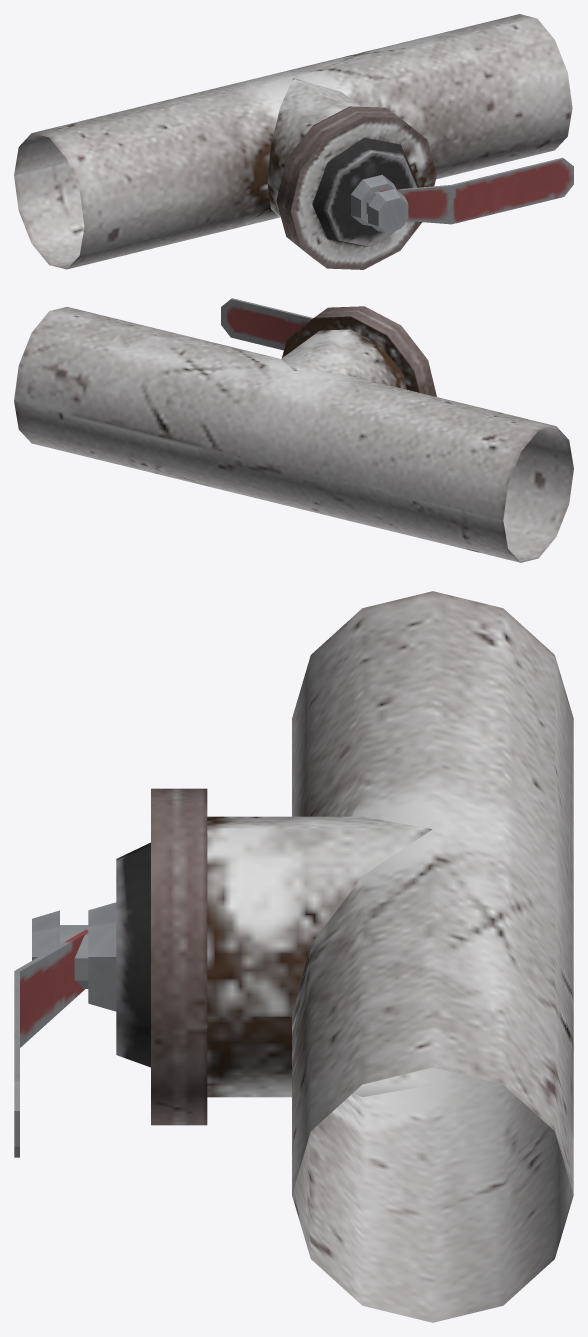
Rendered from pipe_valve.fbx.
The picture shows the model from 3 angles, top to bottom: view 1: azimuth 30°, elevation 25°; view 2: azimuth 150°, elevation 25°; view 3: azimuth 270°, elevation 25°; orthographic projection. The views are drawn at different scales.
Parts seen in each view (by area): view 1: pipe_valve; view 2: pipe_valve; view 3: pipe_valve.
Part boxes in pixels (x1,y1,x2,y2): pipe_valve: (14,14,573,269); pipe_valve: (14,298,573,562); pipe_valve: (14,591,573,1322).
Size of the model in its own units: 40 by 12 by 19.86.
